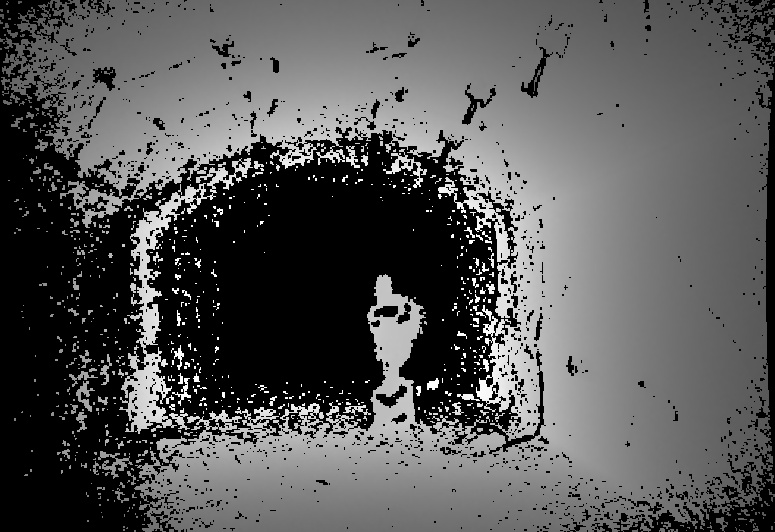person: (367, 273, 426, 432)
